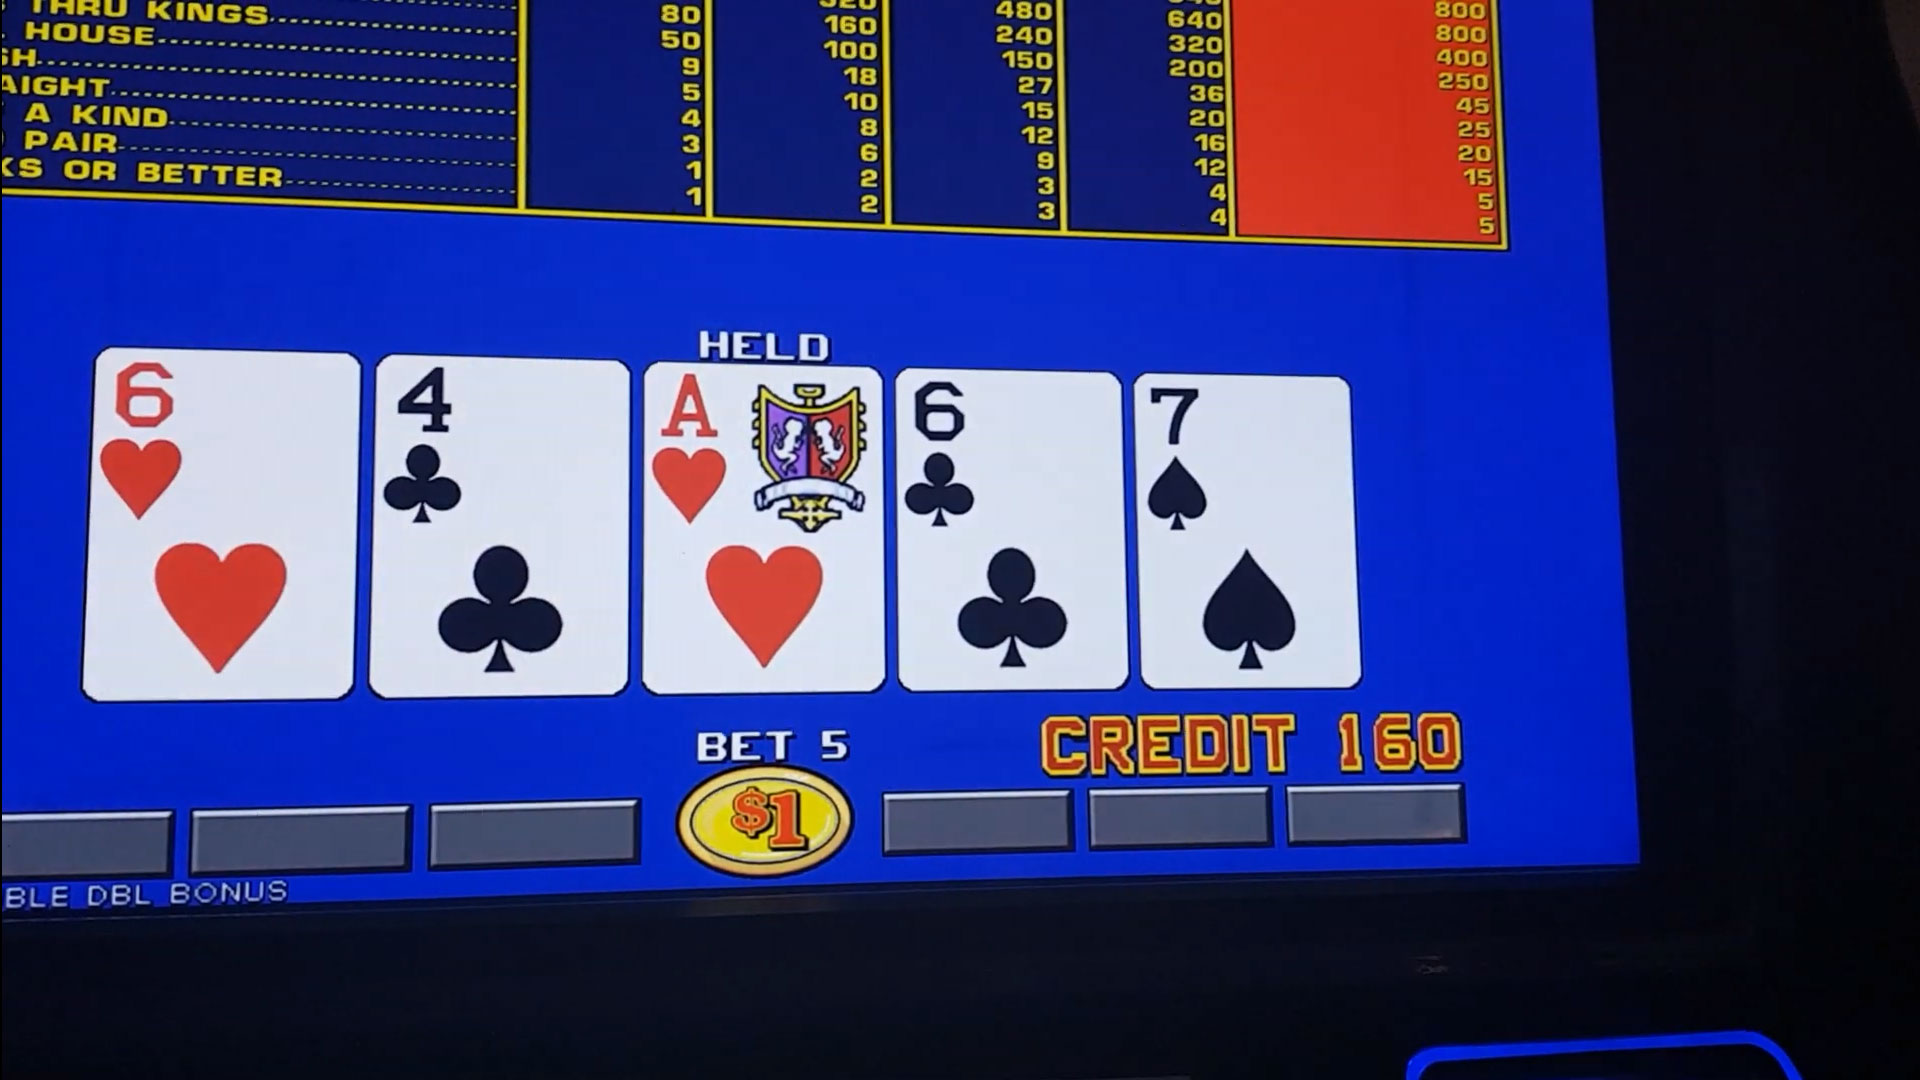C4: (381, 365, 622, 531)
C6: (899, 378, 1117, 530)
H6: (102, 356, 357, 530)
HA: (647, 371, 881, 535)
S7: (1141, 380, 1346, 534)
